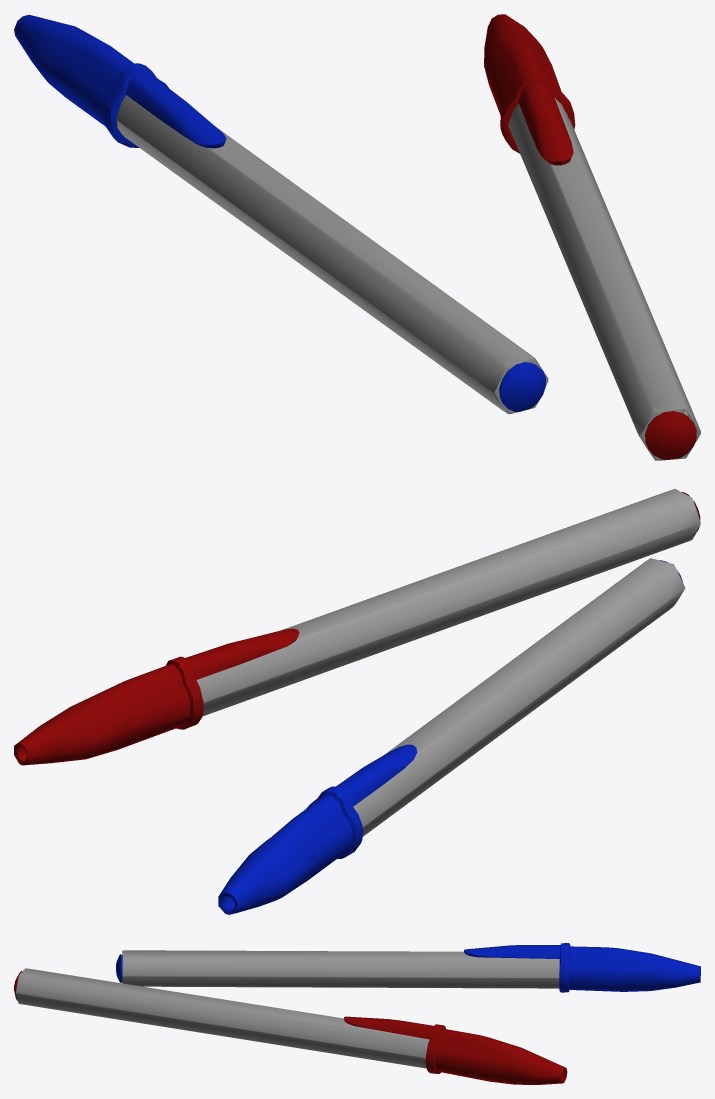
File: Pens.fbx
The picture shows the model from 3 angles, top to bottom: view 1: azimuth 30°, elevation 25°; view 2: azimuth 150°, elevation 25°; view 3: azimuth 270°, elevation 25°; orthographic projection. The views are drawn at different scales.
Visible parts, largest first — view 1: Pens, Pens 2; view 2: Pens 2, Pens; view 3: Pens, Pens 2.
Part boxes in pixels (left/top/right/bottom): Pens: left=14, top=14, right=548, bottom=414; Pens 2: left=484, top=14, right=700, bottom=460; Pens 2: left=14, top=489, right=700, bottom=765; Pens: left=218, top=558, right=685, bottom=914; Pens: left=116, top=943, right=700, bottom=992; Pens 2: left=14, top=968, right=567, bottom=1084.
Bounding box in the file's own units: 6.55 × 1.23 × 16.66.
